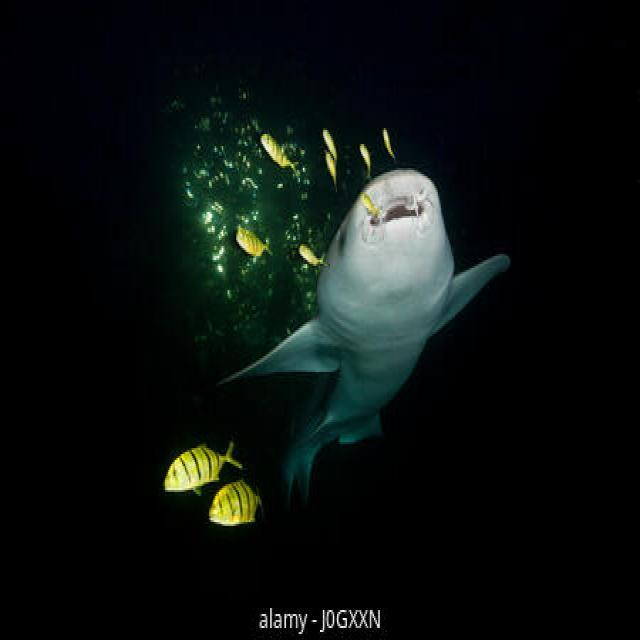Shark: (215, 122, 520, 502)
